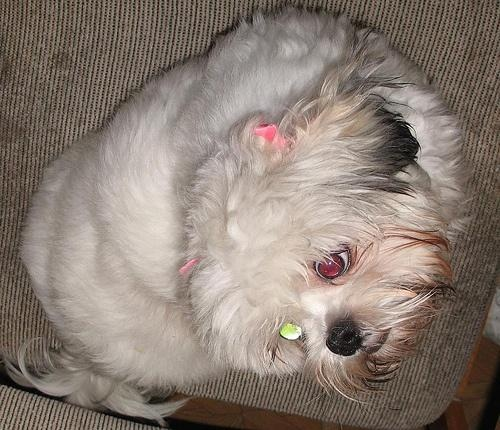dog: (4, 7, 472, 426)
